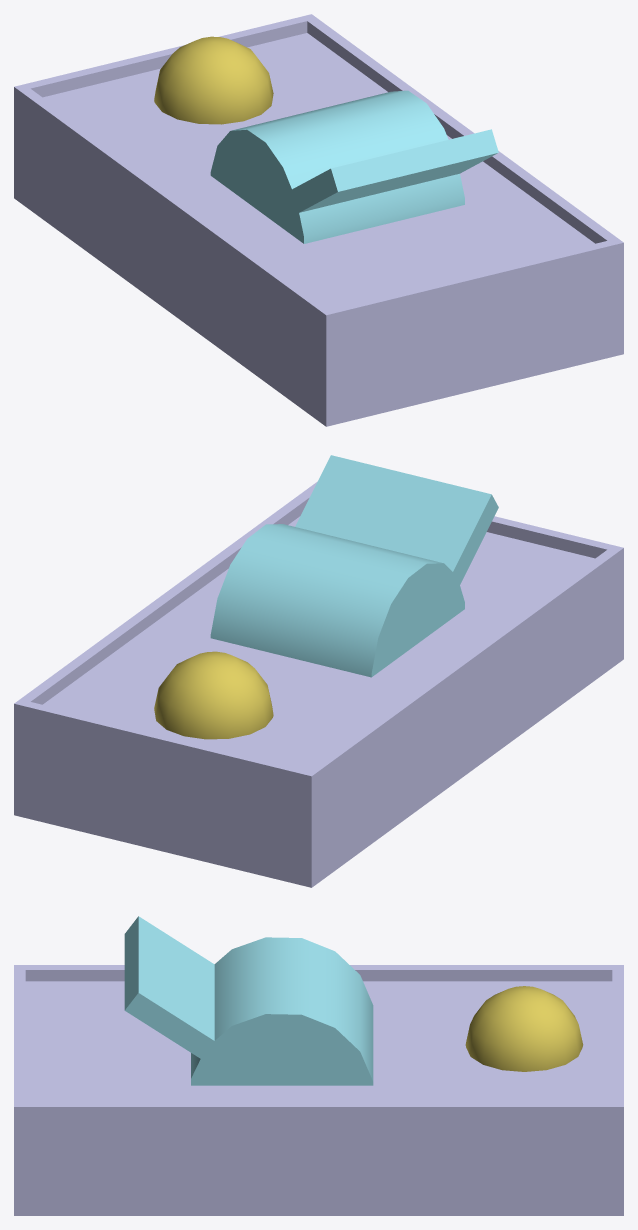
File: Elemento_apagado.glb
The picture shows the model from 3 angles, top to bottom: view 1: azimuth 30°, elevation 25°; view 2: azimuth 150°, elevation 25°; view 3: azimuth 270°, elevation 25°; orthographic projection. The views are drawn at different scales.
Visible parts, largest first — view 1: Box001, Cylinder001, Sphere001; view 2: Box001, Cylinder001, Sphere001; view 3: Box001, Cylinder001, Sphere001.
Boxes of the visible parts, left/top/right/bottom form: Box001: left=14, top=14, right=623, bottom=426; Cylinder001: left=210, top=90, right=498, bottom=243; Sphere001: left=154, top=36, right=273, bottom=124; Box001: left=14, top=481, right=623, bottom=887; Cylinder001: left=210, top=455, right=498, bottom=677; Sphere001: left=154, top=651, right=273, bottom=739; Box001: left=14, top=965, right=623, bottom=1215; Cylinder001: left=124, top=916, right=373, bottom=1085; Sphere001: left=465, top=986, right=583, bottom=1071.
Bounding box in the file's own units: 0.5553 × 0.3475 × 1.01.
